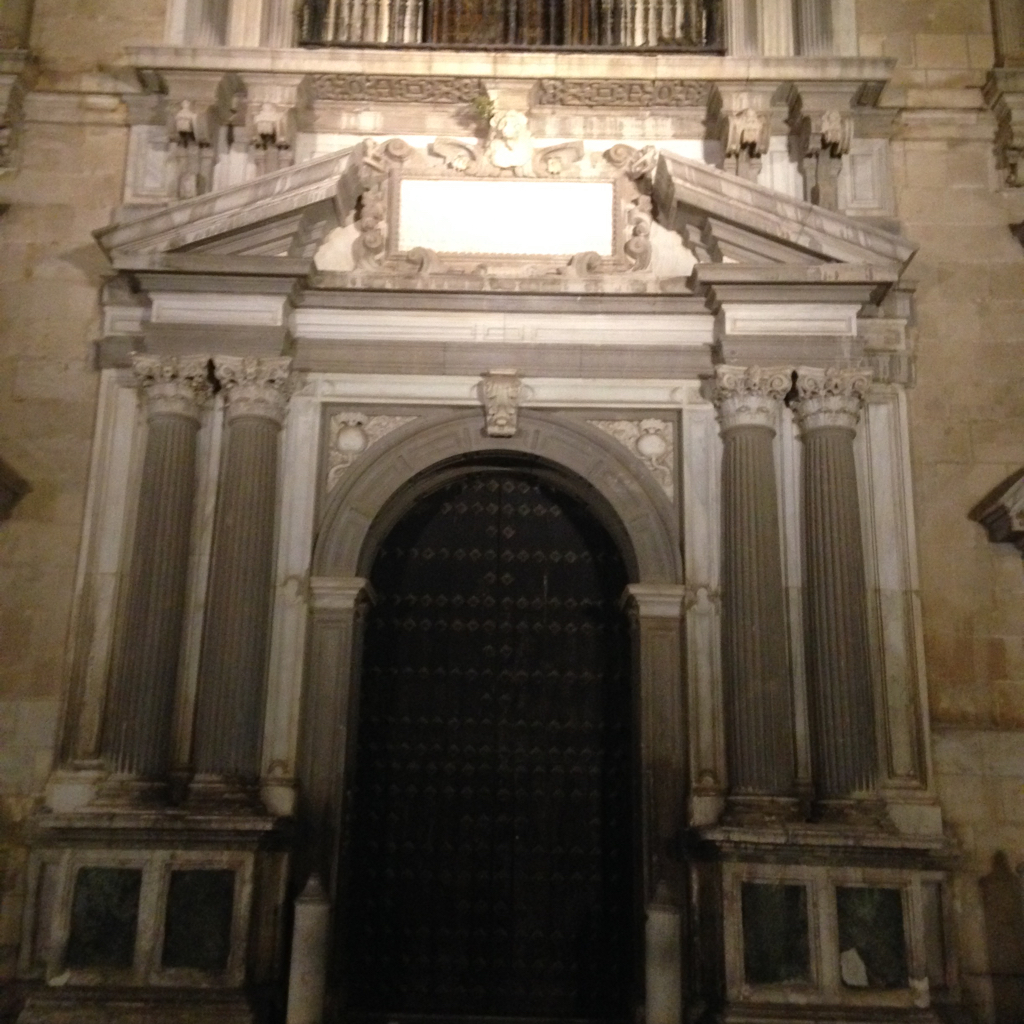arco-medio-punto: (336, 443, 663, 663)
fronton-partido: (87, 148, 925, 296)
